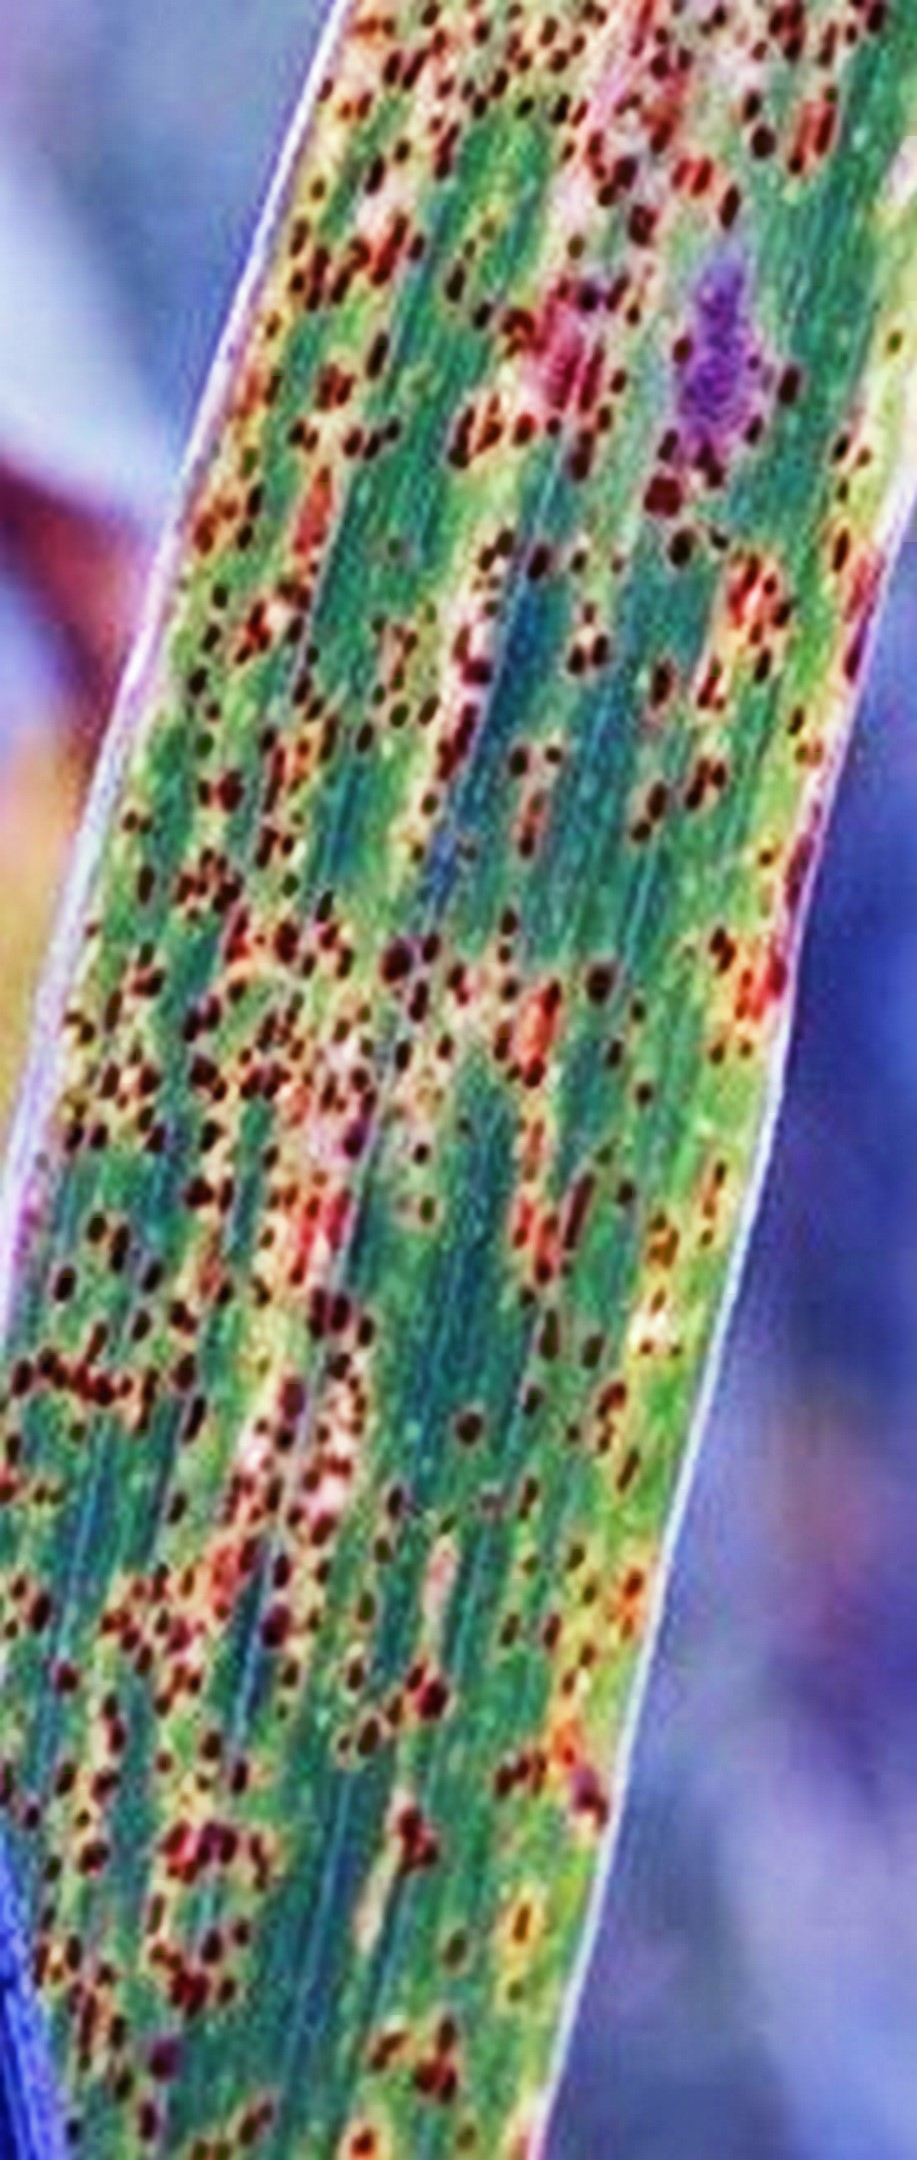Leaf Rust: (48, 10, 903, 2059)
